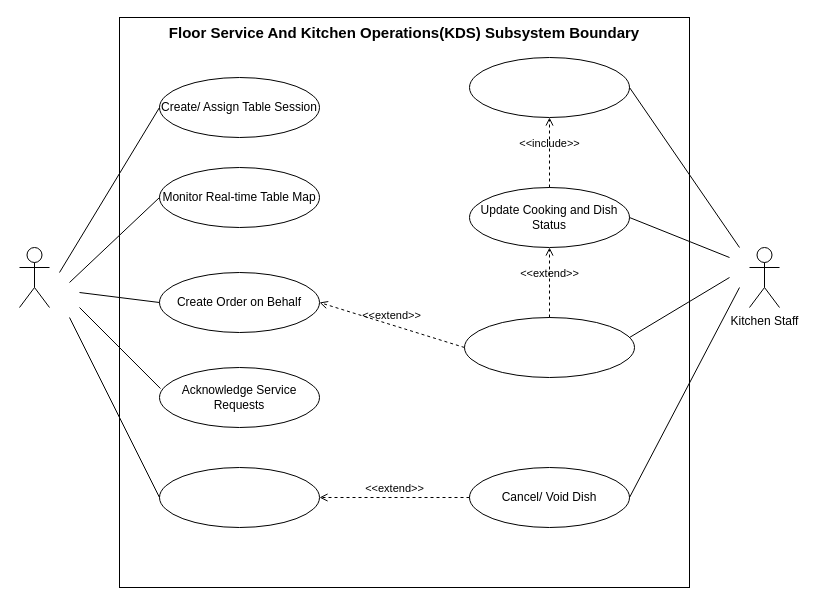
This 816x605 diagram has some shape labels left out. Each missing label, with the centre of its shape:
"Notify Food Ready and Serve" belongs at [549,347].
"Reassign/ Split Table" belongs at [239,497].
"View Kitchen Display(KDS)" belongs at [549,87].
"Waiter" belongs at [34,277].
